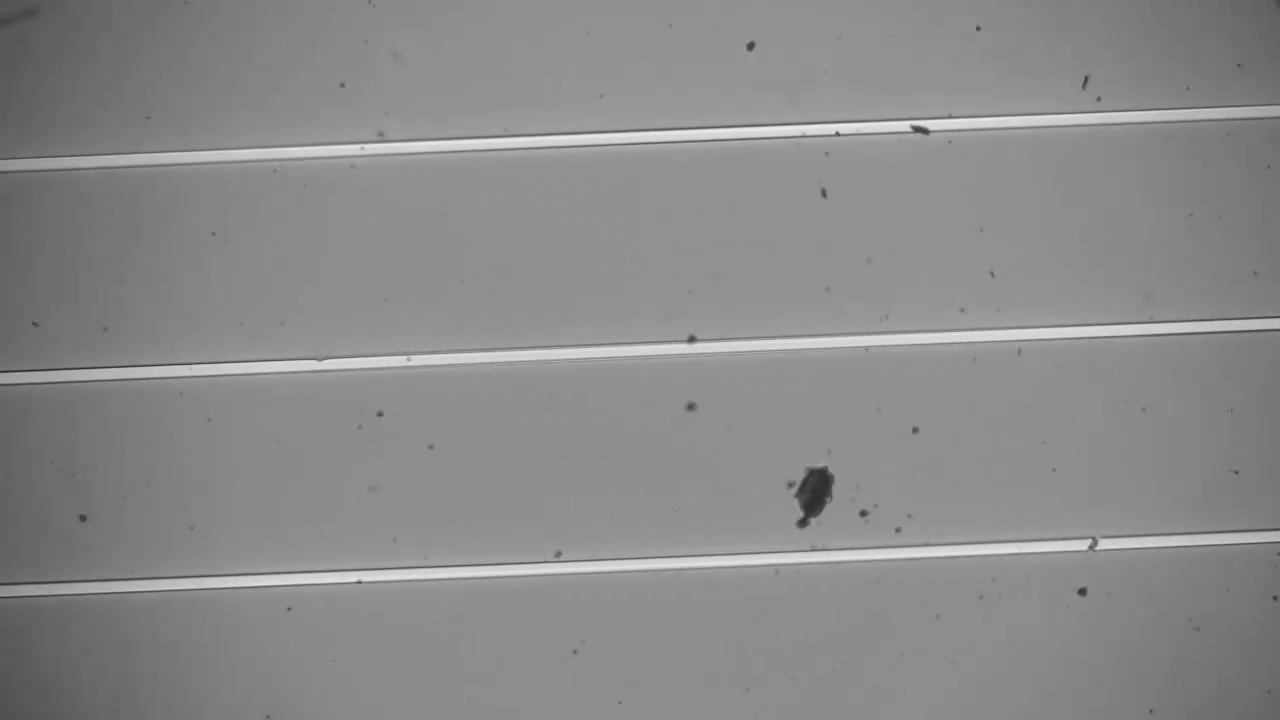stains_enbedded: (1080, 532, 1109, 560)
